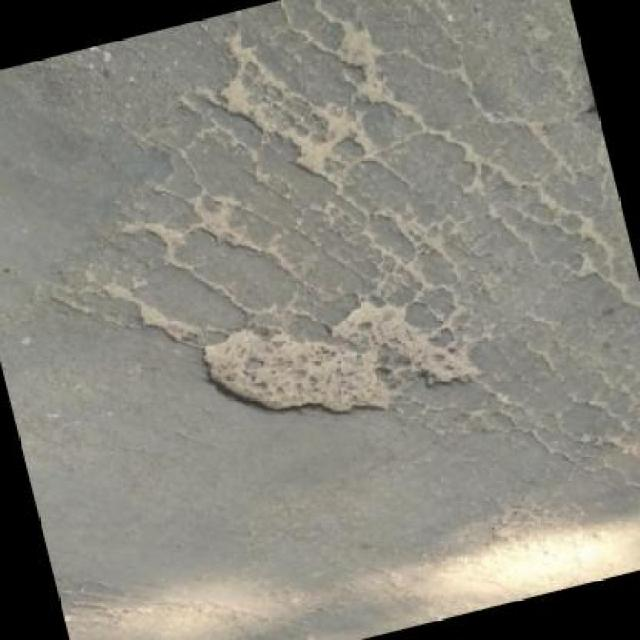pothole1: (188, 270, 487, 456)
